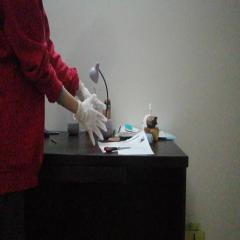gloved: (77, 104, 107, 145), (78, 81, 107, 109)
